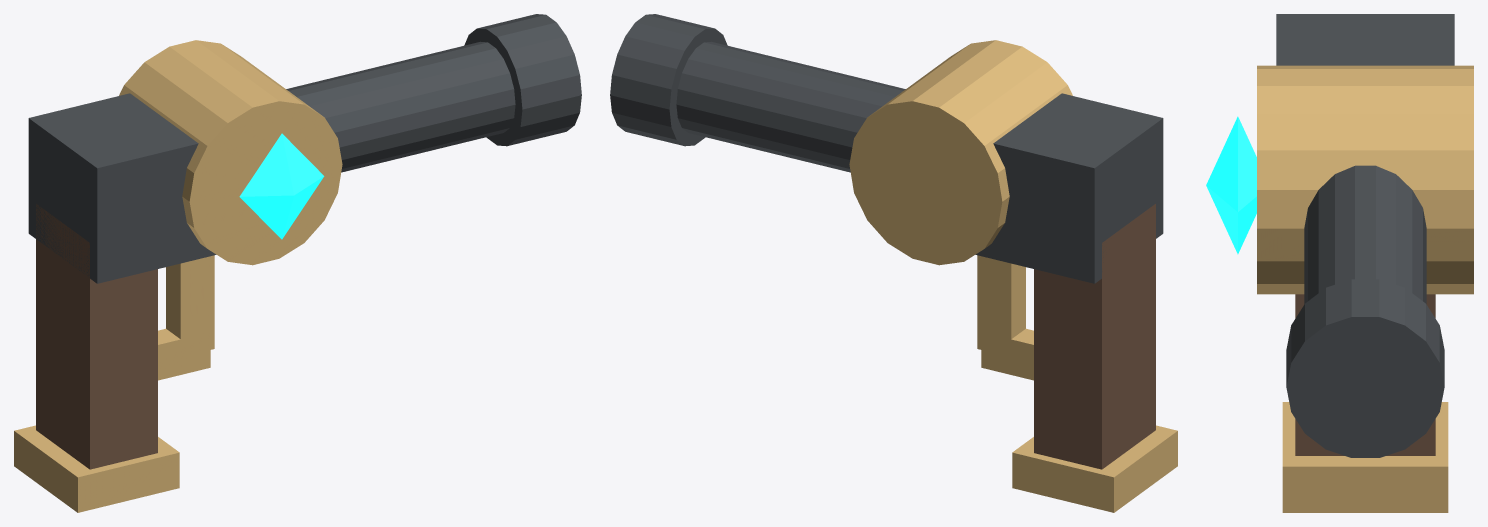
File: SM_MKG_SparkPistol_A01.fbx
The picture shows the model from 3 angles, left to right: view 1: azimuth 30°, elevation 25°; view 2: azimuth 150°, elevation 25°; view 3: azimuth 270°, elevation 25°; orthographic projection. The views are drawn at different scales.
Parts seen in each view (by area): view 1: Chamber_Brass_Round, Receiver_DarkIron_Block, Grip_Leather_Compact, Barrel_DarkIron_Thick, Muzzle_Ring_DarkIron, Grip_Brass_Base, Aetherium_Capacitor_Side, Trigger_Guard_Brass_Front, Trigger_Guard_Brass_Bottom; view 2: Chamber_Brass_Round, Grip_Leather_Compact, Receiver_DarkIron_Block, Barrel_DarkIron_Thick, Muzzle_Ring_DarkIron, Grip_Brass_Base, Trigger_Guard_Brass_Front, Trigger_Guard_Brass_Bottom; view 3: Chamber_Brass_Round, Muzzle_Ring_DarkIron, Barrel_DarkIron_Thick, Grip_Brass_Base, Receiver_DarkIron_Block, Aetherium_Capacitor_Side, Grip_Leather_Compact.
Boxes of the visible parts, box(x1,y1,x2,y2) form: Chamber_Brass_Round: box(119, 40, 342, 265); Receiver_DarkIron_Block: box(28, 93, 216, 283); Grip_Leather_Compact: box(36, 204, 157, 469); Barrel_DarkIron_Thick: box(286, 41, 515, 172); Muzzle_Ring_DarkIron: box(464, 14, 581, 146); Grip_Brass_Base: box(14, 425, 179, 512); Aetherium_Capacitor_Side: box(239, 133, 324, 239); Trigger_Guard_Brass_Front: box(166, 255, 214, 354); Trigger_Guard_Brass_Bottom: box(158, 328, 210, 380); Chamber_Brass_Round: box(849, 40, 1072, 265); Grip_Leather_Compact: box(1034, 204, 1155, 469); Receiver_DarkIron_Block: box(975, 93, 1163, 283); Barrel_DarkIron_Thick: box(676, 41, 905, 172); Muzzle_Ring_DarkIron: box(610, 14, 727, 146); Grip_Brass_Base: box(1012, 425, 1177, 512); Trigger_Guard_Brass_Front: box(977, 255, 1025, 350); Trigger_Guard_Brass_Bottom: box(981, 328, 1033, 380); Chamber_Brass_Round: box(1257, 65, 1473, 294); Muzzle_Ring_DarkIron: box(1286, 279, 1444, 457); Barrel_DarkIron_Thick: box(1304, 165, 1426, 303); Grip_Brass_Base: box(1282, 402, 1448, 512); Receiver_DarkIron_Block: box(1276, 14, 1454, 65); Aetherium_Capacitor_Side: box(1206, 116, 1256, 254); Grip_Leather_Compact: box(1295, 294, 1435, 455).
Size of what is drawn, in the model's own units: 2100 by 5950 by 4186.
